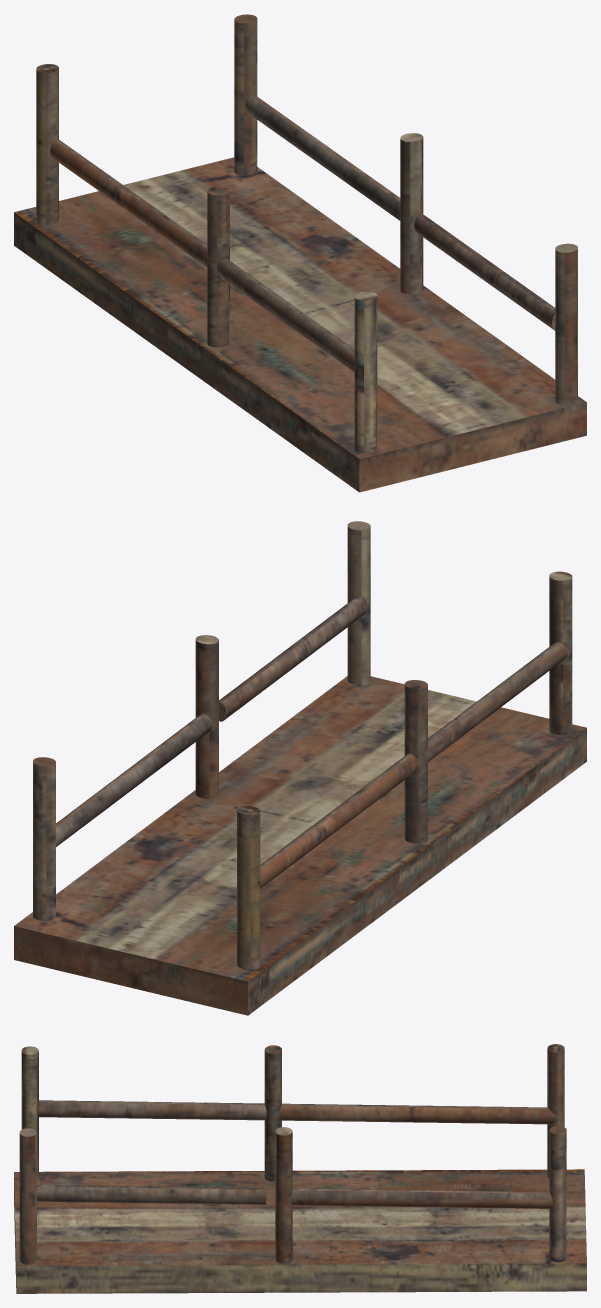
Rendered from Bridge.fbx.
The picture shows the model from 3 angles, top to bottom: view 1: azimuth 30°, elevation 25°; view 2: azimuth 150°, elevation 25°; view 3: azimuth 270°, elevation 25°; orthographic projection. The views are drawn at different scales.
Parts seen in each view (by area): view 1: pCube6; view 2: pCube6; view 3: pCube6.
Boxes of the visible parts, x1,y1,x2,y2 form: pCube6: (14, 14, 586, 492); pCube6: (14, 521, 586, 1015); pCube6: (14, 1044, 586, 1293).
Size of the model in its own units: 1.34 by 1.01 by 3.36.
Materials: 1 (1 with a texture image).
